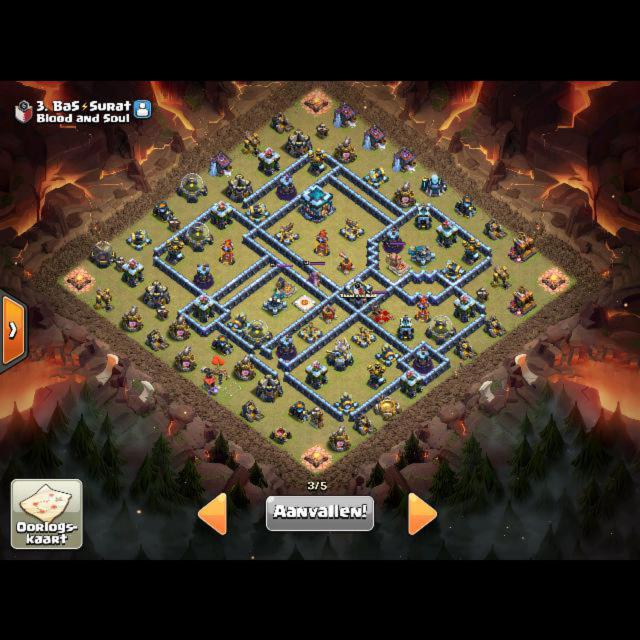AD: (366, 361, 386, 390), (307, 147, 327, 176), (165, 236, 185, 265), (461, 236, 481, 265)
AirSweeper: (337, 250, 356, 274), (319, 303, 337, 323)
BombTower: (397, 313, 413, 340), (415, 202, 431, 229)
Canon: (374, 342, 400, 366), (333, 391, 359, 415), (226, 312, 252, 335), (439, 259, 465, 282), (362, 166, 388, 188), (244, 201, 270, 223), (125, 228, 151, 250)
ClanCastle: (344, 276, 373, 309)
Eagle: (325, 336, 353, 371)
Inferno: (314, 229, 330, 256), (219, 238, 235, 265), (414, 296, 430, 322)
KingPad: (389, 257, 412, 275)
Mortar: (454, 195, 476, 218), (211, 333, 233, 355), (288, 400, 310, 422), (152, 200, 174, 222)
QueenPad: (370, 306, 395, 324)
RcPad: (277, 282, 296, 296)
Scattershot: (263, 290, 287, 316), (408, 244, 435, 267)
TH13: (300, 182, 333, 222)
WardenPad: (294, 294, 315, 310)
WizzTower: (276, 171, 297, 199), (382, 227, 402, 253), (277, 333, 296, 360), (194, 262, 213, 289), (413, 346, 432, 372)
Xbow: (339, 217, 365, 242), (273, 221, 299, 246), (297, 321, 323, 343), (350, 325, 376, 347)
